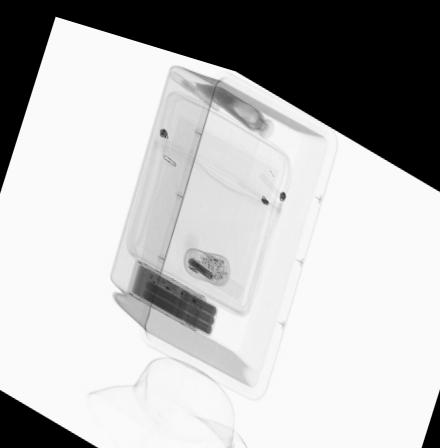Powerbank: (124, 249, 220, 328)
